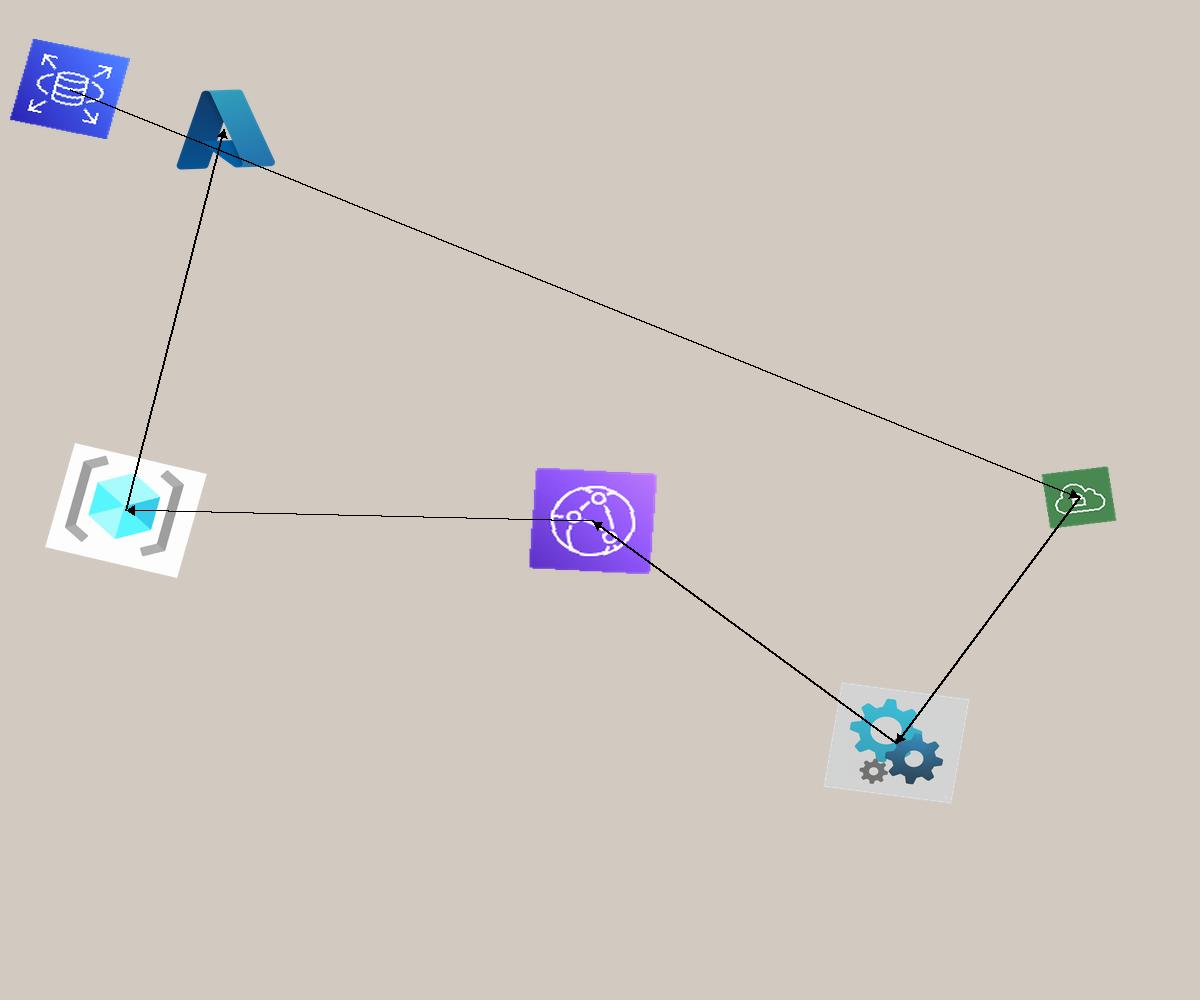AWS-CloudFront: (528, 467, 658, 575)
AWS-Private_vpc: (1041, 466, 1117, 529)
AWS-RDS: (9, 38, 131, 140)
Azure_api: (823, 682, 970, 804)
Azure_resource_group: (45, 443, 207, 578)
Azure_services: (168, 82, 280, 176)
